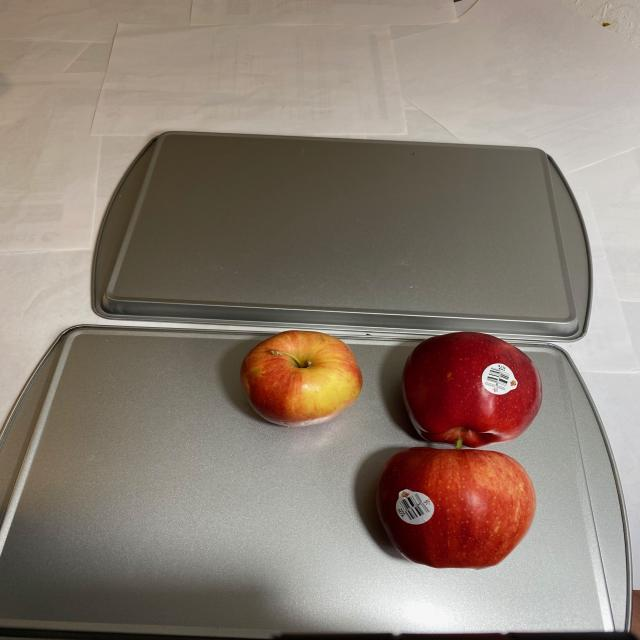apple: (236, 330, 544, 570)
